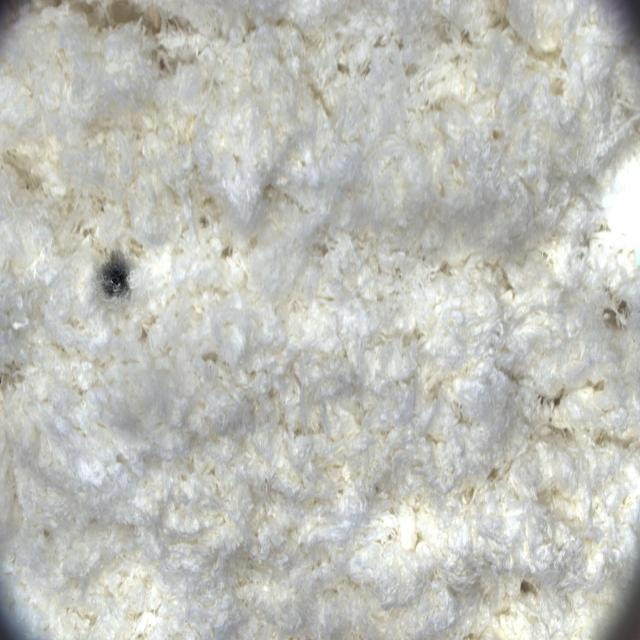dust: (85, 225, 154, 333)
